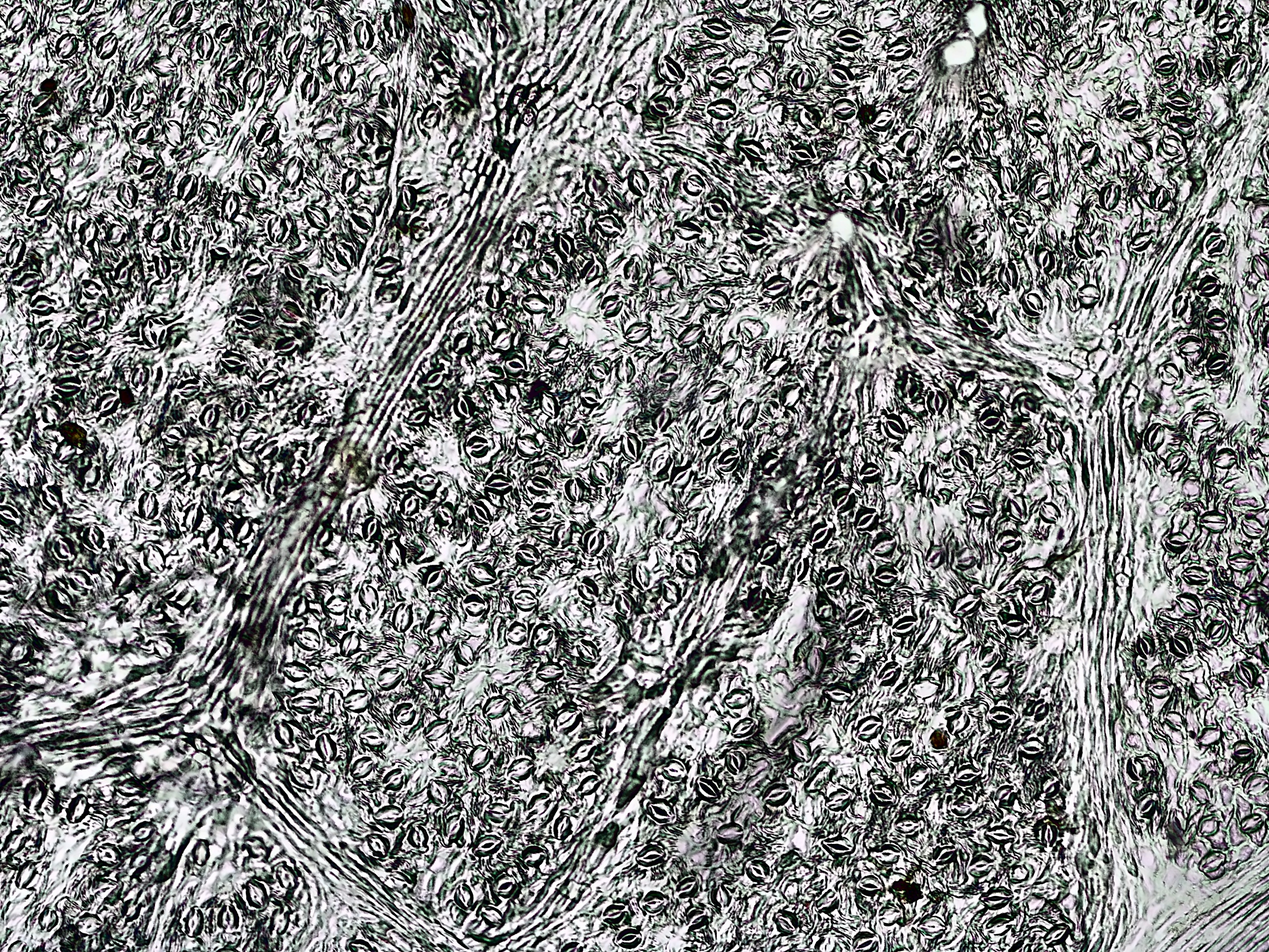stomata: (898, 368, 924, 404), (141, 540, 166, 574), (140, 316, 166, 348), (645, 798, 676, 824), (658, 55, 685, 83), (747, 66, 776, 92), (373, 805, 403, 830), (92, 83, 114, 117), (293, 627, 321, 653), (676, 549, 702, 577), (1020, 53, 1049, 78), (245, 879, 269, 909), (834, 28, 864, 52), (808, 0, 839, 23), (765, 20, 797, 42), (856, 715, 883, 741), (283, 154, 303, 189), (761, 275, 791, 298), (737, 399, 760, 429), (353, 20, 375, 51), (737, 140, 768, 162), (953, 261, 979, 287), (303, 204, 330, 229), (659, 757, 686, 782), (334, 62, 355, 94), (76, 912, 104, 936), (1009, 210, 1033, 238), (1134, 790, 1158, 818), (981, 887, 1013, 908), (774, 908, 798, 936), (23, 780, 46, 809), (473, 834, 502, 857), (484, 473, 513, 496), (468, 561, 497, 584), (719, 339, 742, 368), (953, 593, 982, 616), (919, 461, 937, 498), (1099, 181, 1121, 211), (243, 68, 264, 99), (788, 736, 813, 762), (27, 193, 54, 217), (376, 667, 403, 691), (678, 324, 705, 348), (483, 695, 510, 719), (554, 707, 581, 731), (1200, 509, 1227, 533), (985, 664, 1012, 688), (95, 31, 118, 59), (6, 5, 29, 33), (66, 795, 89, 823), (3, 829, 26, 857), (343, 689, 371, 712), (763, 783, 791, 806), (422, 668, 454, 688), (383, 11, 405, 40), (958, 373, 980, 402), (965, 495, 994, 517), (916, 916, 945, 938), (281, 661, 311, 682), (620, 432, 641, 462), (706, 99, 736, 120), (805, 646, 826, 676), (698, 420, 723, 445), (515, 434, 541, 458), (827, 64, 853, 88), (896, 130, 920, 156), (718, 448, 742, 474), (169, 0, 192, 27), (491, 327, 514, 354), (428, 779, 451, 806), (708, 67, 735, 90), (704, 289, 731, 312), (1175, 593, 1202, 616), (1235, 661, 1258, 688), (870, 532, 897, 555), (701, 19, 732, 39), (315, 733, 337, 761), (582, 528, 604, 556), (627, 169, 649, 197), (506, 758, 534, 780), (1043, 924, 1071, 946), (182, 503, 203, 532), (538, 391, 559, 420), (998, 262, 1019, 291), (762, 355, 791, 376), (1018, 738, 1047, 759), (636, 845, 665, 866), (15, 859, 35, 889), (288, 694, 318, 714), (424, 610, 448, 635), (468, 501, 493, 525), (423, 567, 448, 591), (882, 414, 906, 439), (780, 383, 804, 408), (989, 706, 1014, 730), (947, 710, 971, 735), (910, 679, 940, 699), (969, 854, 994, 878), (824, 836, 854, 856), (589, 460, 612, 486), (791, 66, 814, 92), (1224, 55, 1247, 81), (941, 147, 967, 170), (515, 544, 542, 566), (650, 267, 677, 289), (624, 321, 651, 343), (1030, 173, 1052, 200), (5, 238, 26, 266), (117, 181, 138, 209), (163, 120, 184, 148), (335, 241, 356, 269), (385, 538, 406, 566), (424, 719, 452, 740), (702, 381, 730, 402), (953, 764, 981, 785), (267, 214, 287, 243), (138, 491, 158, 520), (218, 902, 238, 931), (184, 907, 204, 936), (348, 209, 372, 233), (97, 843, 121, 867), (242, 173, 265, 198), (366, 833, 389, 858), (584, 173, 607, 198), (576, 639, 599, 664), (1023, 111, 1046, 136), (1198, 724, 1223, 747), (1200, 850, 1225, 873), (831, 488, 854, 513), (825, 788, 850, 811), (468, 744, 490, 770), (717, 822, 743, 844), (1226, 553, 1256, 572), (78, 219, 99, 246), (522, 294, 549, 315), (1078, 142, 1099, 169), (874, 844, 901, 865), (724, 688, 751, 709), (177, 174, 197, 202), (236, 309, 264, 329), (536, 662, 564, 682), (984, 826, 1015, 844), (54, 438, 77, 462), (128, 849, 151, 873), (535, 257, 559, 280), (705, 198, 729, 221), (1062, 45, 1086, 68), (1077, 284, 1100, 308), (1188, 780, 1212, 803), (1197, 813, 1220, 837), (1019, 294, 1043, 317), (854, 508, 878, 531), (878, 661, 901, 685), (641, 891, 665, 914), (824, 567, 848, 590), (1144, 423, 1163, 452), (198, 120, 220, 145), (871, 157, 893, 182), (952, 449, 974, 474), (1009, 448, 1034, 470), (996, 530, 1021, 552), (889, 739, 914, 761), (151, 56, 177, 77), (595, 216, 621, 237), (1034, 247, 1055, 273), (987, 915, 1013, 936), (57, 33, 77, 60), (222, 191, 240, 221), (301, 73, 319, 103), (220, 352, 247, 372), (483, 803, 510, 823), (284, 32, 304, 59), (182, 453, 202, 480), (886, 41, 913, 61), (888, 201, 908, 228), (821, 685, 851, 703), (195, 32, 214, 60), (398, 184, 417, 212), (270, 907, 289, 935), (393, 603, 412, 631), (1182, 566, 1210, 585), (255, 123, 278, 146), (422, 367, 445, 390), (409, 218, 432, 241), (138, 158, 162, 180), (82, 526, 104, 550), (276, 865, 298, 889), (289, 766, 313, 788), (494, 874, 516, 898), (416, 473, 440, 495), (251, 21, 273, 45), (554, 234, 576, 258), (870, 110, 894, 132), (845, 171, 867, 195), (815, 890, 839, 912), (697, 777, 721, 799), (486, 282, 507, 307), (312, 119, 337, 140), (514, 590, 539, 611), (233, 517, 254, 542), (831, 98, 856, 119), (1244, 773, 1269, 794), (926, 390, 947, 415), (979, 411, 1004, 432), (730, 716, 755, 737), (759, 540, 780, 565), (741, 228, 770, 246), (204, 526, 224, 552), (358, 586, 378, 612), (1192, 411, 1218, 431), (1007, 496, 1027, 522), (1040, 774, 1060, 800), (869, 786, 895, 806), (631, 564, 651, 590), (200, 403, 219, 430), (374, 256, 401, 275), (543, 344, 570, 363), (340, 630, 359, 657), (1074, 231, 1093, 258), (821, 456, 840, 483), (131, 121, 153, 144), (96, 394, 119, 416), (160, 426, 183, 448), (350, 756, 373, 778), (531, 623, 553, 646), (1213, 448, 1236, 470), (1232, 739, 1254, 762), (950, 795, 973, 817), (747, 859, 769, 882), (809, 524, 831, 547), (651, 407, 673, 430), (579, 386, 601, 409), (844, 603, 867, 625), (122, 86, 143, 110), (30, 295, 54, 316), (296, 400, 317, 424), (799, 107, 820, 131), (1158, 135, 1182, 156), (1165, 532, 1189, 553), (1146, 678, 1170, 699), (1240, 812, 1264, 833), (971, 311, 995, 332), (724, 750, 745, 774), (615, 591, 636, 615), (501, 355, 526, 375), (341, 169, 361, 194), (521, 846, 546, 866), (564, 478, 584, 503), (505, 620, 525, 645), (191, 839, 210, 865), (445, 815, 464, 841), (676, 221, 702, 240), (1002, 617, 1028, 636), (892, 616, 918, 635), (115, 779, 144, 796), (466, 435, 488, 457), (407, 826, 429, 848), (394, 703, 416, 725), (1129, 139, 1151, 161), (1165, 450, 1187, 472), (1038, 502, 1060, 524), (481, 905, 504, 926), (454, 642, 475, 665), (464, 593, 485, 616), (1197, 276, 1220, 297), (1241, 518, 1264, 539), (1168, 636, 1191, 657), (994, 784, 1015, 807), (671, 465, 692, 488), (274, 336, 298, 356), (283, 263, 307, 283), (38, 908, 58, 932), (319, 40, 339, 64), (421, 104, 441, 128), (515, 224, 535, 248), (1154, 55, 1178, 75), (1150, 186, 1170, 210), (267, 470, 287, 494), (721, 255, 746, 274), (790, 144, 815, 163), (1093, 15, 1118, 34), (1178, 335, 1203, 354), (873, 567, 898, 586), (385, 448, 404, 473), (220, 89, 238, 115), (359, 728, 385, 746), (553, 814, 571, 840), (274, 721, 292, 747), (18, 272, 40, 293), (68, 570, 90, 591), (79, 464, 101, 485), (382, 769, 404, 790), (660, 516, 681, 538), (601, 296, 623, 317), (1206, 308, 1227, 330), (1027, 581, 1049, 602), (221, 55, 244, 75), (67, 342, 90, 362), (150, 219, 170, 242), (230, 399, 250, 422), (552, 523, 572, 546), (650, 97, 673, 117), (529, 792, 549, 815), (925, 545, 945, 568), (711, 884, 731, 907), (579, 578, 599, 601), (1040, 821, 1057, 848), (43, 485, 62, 509), (615, 359, 634, 383), (362, 517, 381, 541), (400, 492, 419, 516), (1118, 101, 1142, 120), (617, 929, 641, 948), (244, 260, 269, 278), (176, 379, 201, 397), (55, 378, 81, 395), (38, 328, 59, 349), (83, 310, 104, 331), (433, 504, 454, 525), (978, 94, 999, 115), (1214, 14, 1235, 35), (1158, 363, 1179, 384), (1205, 620, 1226, 641), (16, 162, 36, 184), (54, 537, 74, 559), (258, 370, 280, 390), (223, 483, 245, 503), (491, 380, 511, 402), (589, 360, 609, 382), (325, 595, 347, 615), (1024, 18, 1044, 40), (1130, 231, 1152, 251), (1127, 758, 1147, 780), (379, 86, 398, 109), (122, 898, 141, 921), (132, 821, 155, 840), (602, 904, 625, 923), (40, 130, 58, 154), (153, 255, 171, 279), (455, 885, 473, 909), (1168, 92, 1192, 110), (859, 875, 883, 893), (663, 581, 681, 605), (973, 128, 990, 153), (1137, 633, 1154, 658), (175, 87, 195, 108), (684, 175, 704, 196), (1144, 15, 1164, 36), (41, 401, 60, 423), (279, 304, 301, 323), (565, 426, 587, 445), (527, 476, 549, 495), (530, 502, 552, 521), (905, 259, 927, 278), (914, 229, 940, 245), (107, 224, 125, 247), (172, 226, 190, 249), (454, 332, 472, 355), (356, 121, 374, 144), (491, 25, 508, 49), (792, 556, 809, 580), (893, 818, 920, 833), (376, 284, 401, 300), (616, 84, 636, 104), (1206, 234, 1226, 254), (580, 261, 599, 282), (1206, 355, 1227, 374), (1029, 698, 1048, 719), (677, 877, 696, 898), (844, 651, 863, 672), (32, 93, 54, 111), (132, 366, 150, 388), (407, 407, 429, 425), (454, 396, 472, 418), (935, 846, 957, 864), (623, 258, 640, 281), (860, 463, 880, 482), (1190, 683, 1211, 701), (1047, 429, 1064, 451), (293, 595, 310, 617), (216, 23, 235, 42), (374, 146, 393, 165), (1005, 166, 1020, 190), (1173, 294, 1188, 318), (910, 766, 928, 786), (1196, 58, 1213, 79), (83, 280, 101, 299), (979, 647, 997, 666), (1166, 711, 1183, 730), (210, 242, 234, 255), (1175, 121, 1194, 136)
